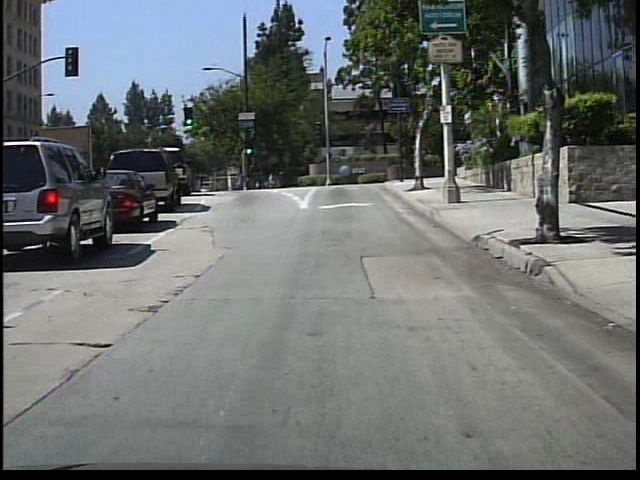person: (263, 167, 279, 192), (233, 167, 248, 193)
